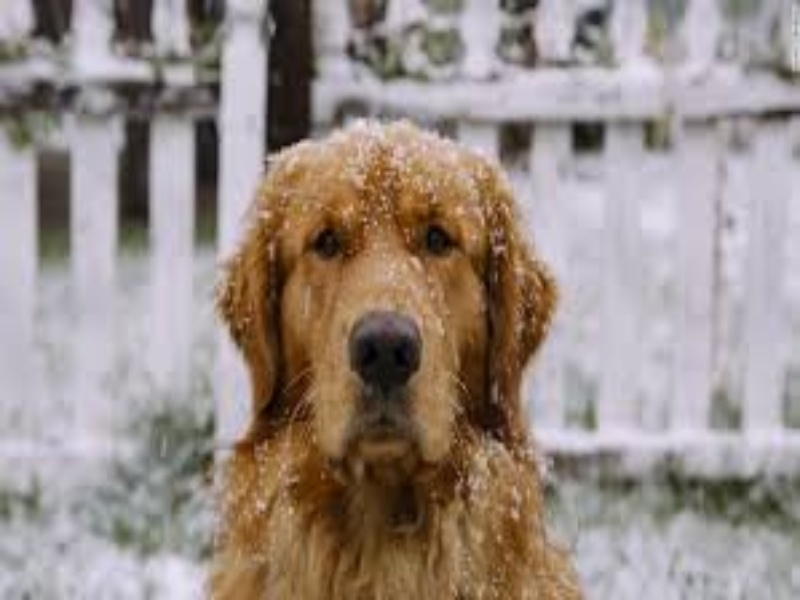dog: (215, 114, 571, 600)
